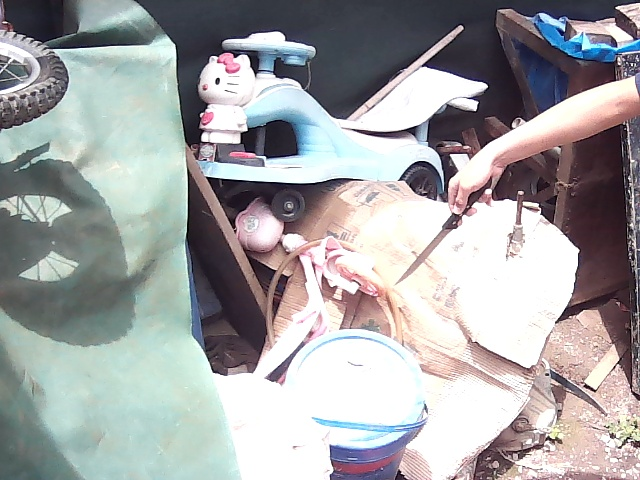cuchillo: (392, 202, 465, 290)
